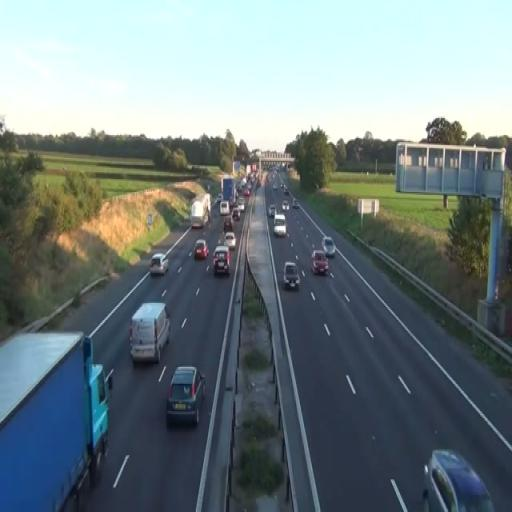Car: (421, 448, 495, 512), (166, 365, 206, 427), (212, 245, 231, 276), (148, 252, 170, 276), (283, 262, 300, 290), (311, 250, 329, 274), (321, 236, 336, 258), (194, 239, 208, 260), (274, 214, 286, 238), (225, 232, 236, 250)
Truck: (0, 330, 115, 508), (128, 300, 171, 364), (191, 192, 211, 230)
